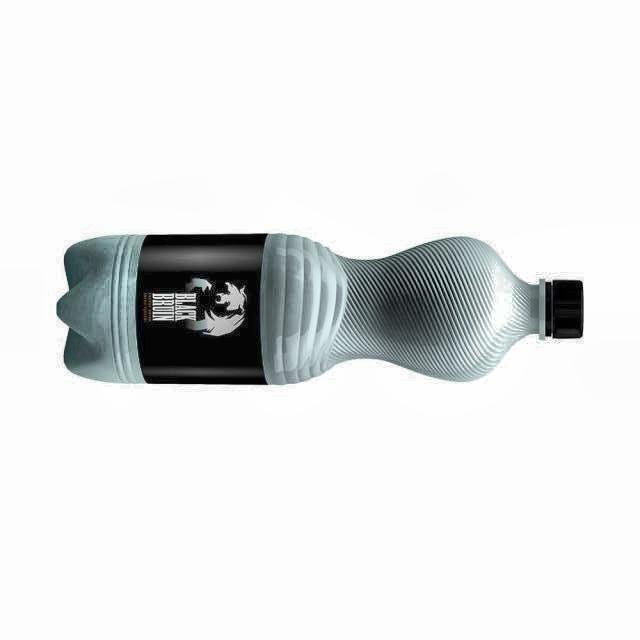plastic: (58, 234, 582, 383)
